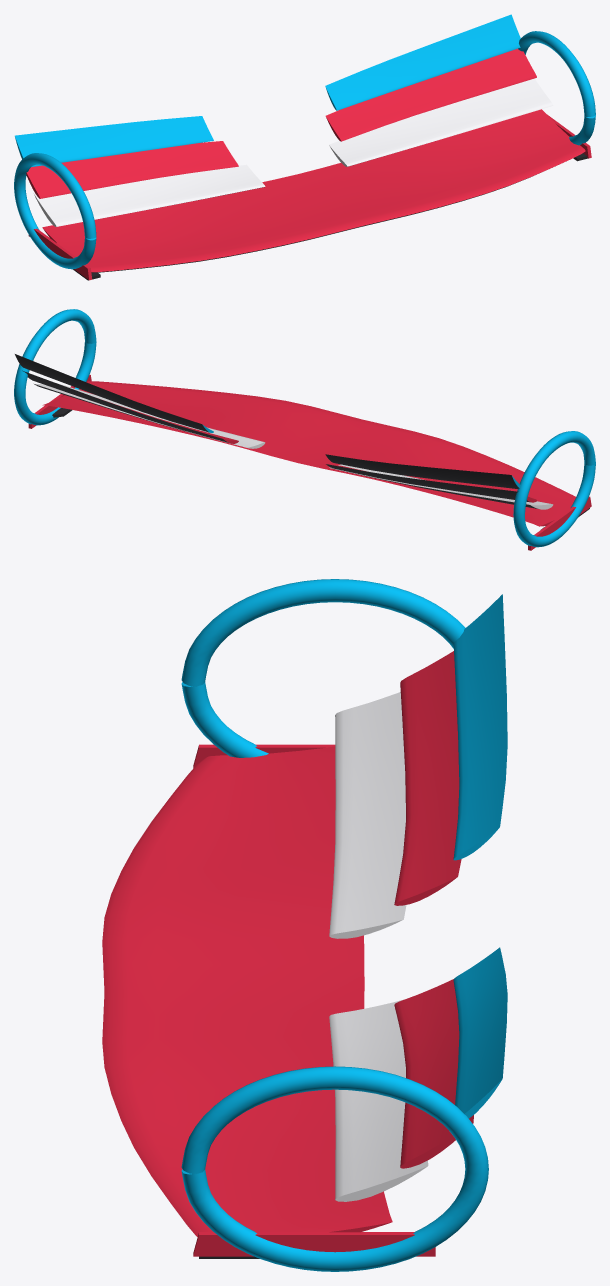
The model's file is ring.glb.
3 renders of one model, top to bottom at view 1: azimuth 30°, elevation 25°; view 2: azimuth 150°, elevation 25°; view 3: azimuth 270°, elevation 25°, orthographic. The views are drawn at different scales.
Parts seen in each view (by area): view 1: FrontWing_ring; view 2: FrontWing_ring; view 3: FrontWing_ring.
Part boxes in pixels (<box>): FrontWing_ring: <box>14,14,595,280</box>; FrontWing_ring: <box>14,309,595,550</box>; FrontWing_ring: <box>102,579,507,1271</box>.
Bounding box in the file's own units: 1.99 × 0.38 × 0.6854.
